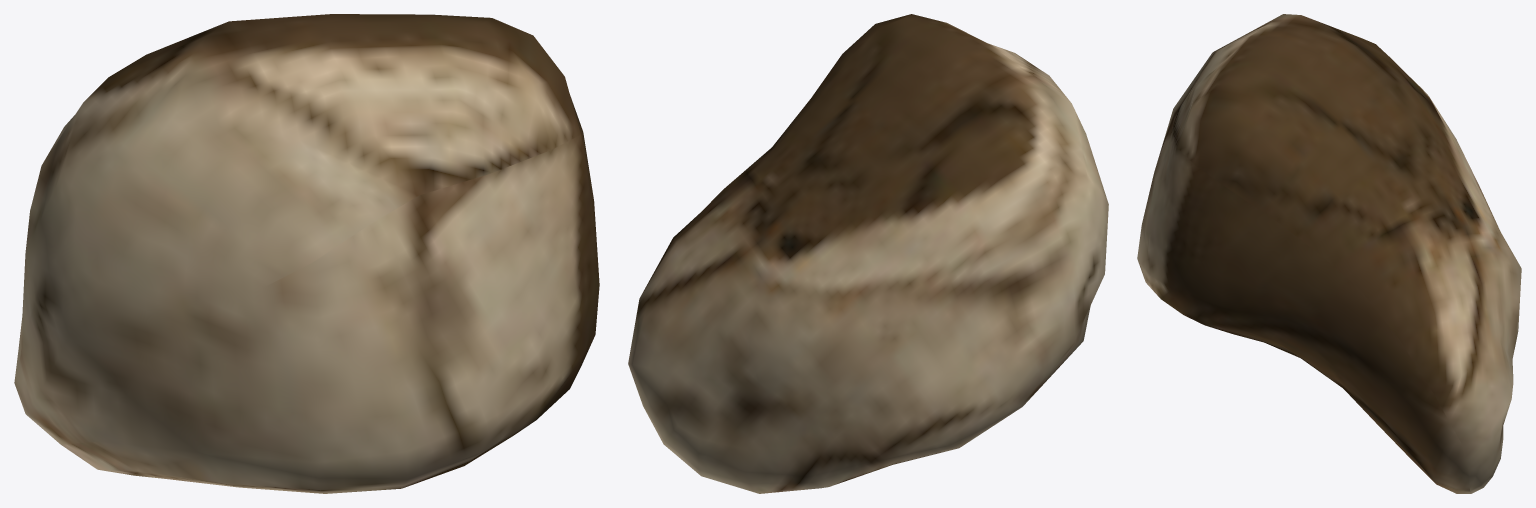
The model's file is Fourth_Carpal.glb.
3 renders of one model, left to right at view 1: azimuth 30°, elevation 25°; view 2: azimuth 150°, elevation 25°; view 3: azimuth 270°, elevation 25°, orthographic. The views are drawn at different scales.
Parts seen in each view (by area): view 1: R_Frt_Fourth_Carpal; view 2: R_Frt_Fourth_Carpal; view 3: R_Frt_Fourth_Carpal.
Boxes of the visible parts, box(x1,y1,x2,y2) form: R_Frt_Fourth_Carpal: box(14, 14, 599, 493); R_Frt_Fourth_Carpal: box(628, 14, 1108, 493); R_Frt_Fourth_Carpal: box(1137, 14, 1521, 493).
Bounding box in the file's own units: 0.0354 × 0.0339 × 0.0309.
Materials: 1 (1 with a texture image).
